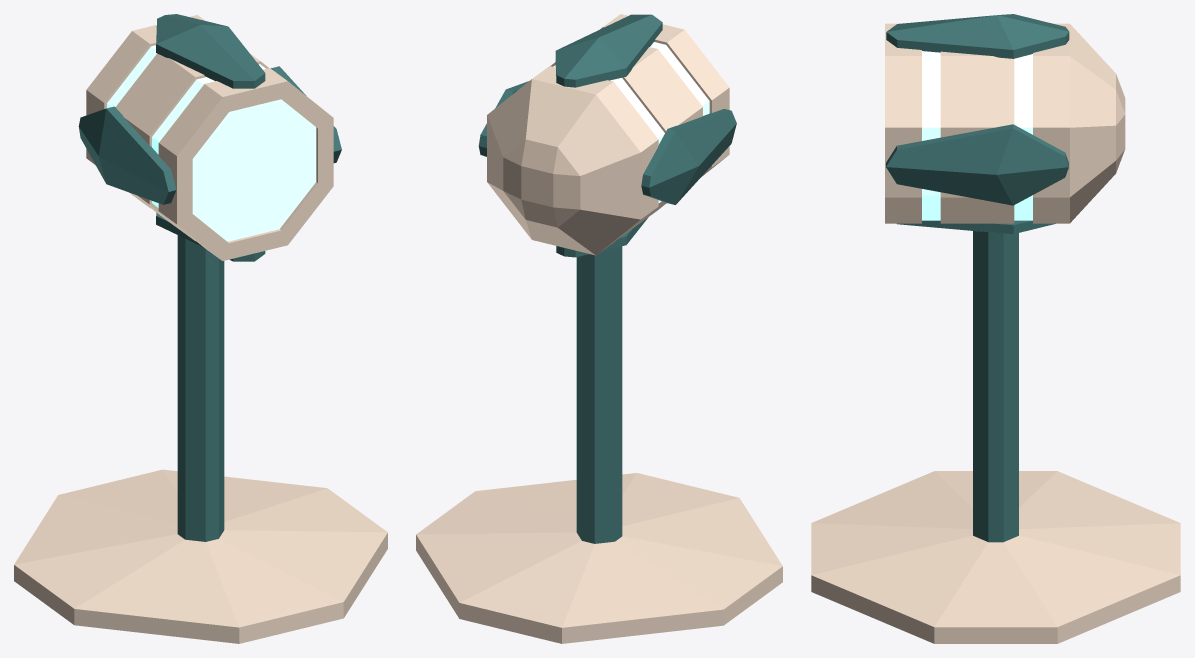
Rendered from Spotlight.fbx.
3 views of the same model, side by side, from view 1: azimuth 30°, elevation 25°; view 2: azimuth 150°, elevation 25°; view 3: azimuth 270°, elevation 25° (orthographic). The views are drawn at different scales.
Visible parts, largest first — view 1: Spotlight_LOD0; view 2: Spotlight_LOD0; view 3: Spotlight_LOD0.
Boxes of the visible parts, box(x1,y1,x2,y2) form: Spotlight_LOD0: box(14, 14, 387, 643); Spotlight_LOD0: box(416, 14, 782, 643); Spotlight_LOD0: box(811, 14, 1180, 643).
Size of what is drawn, in the model's own units: 1 by 1.64 by 1.
